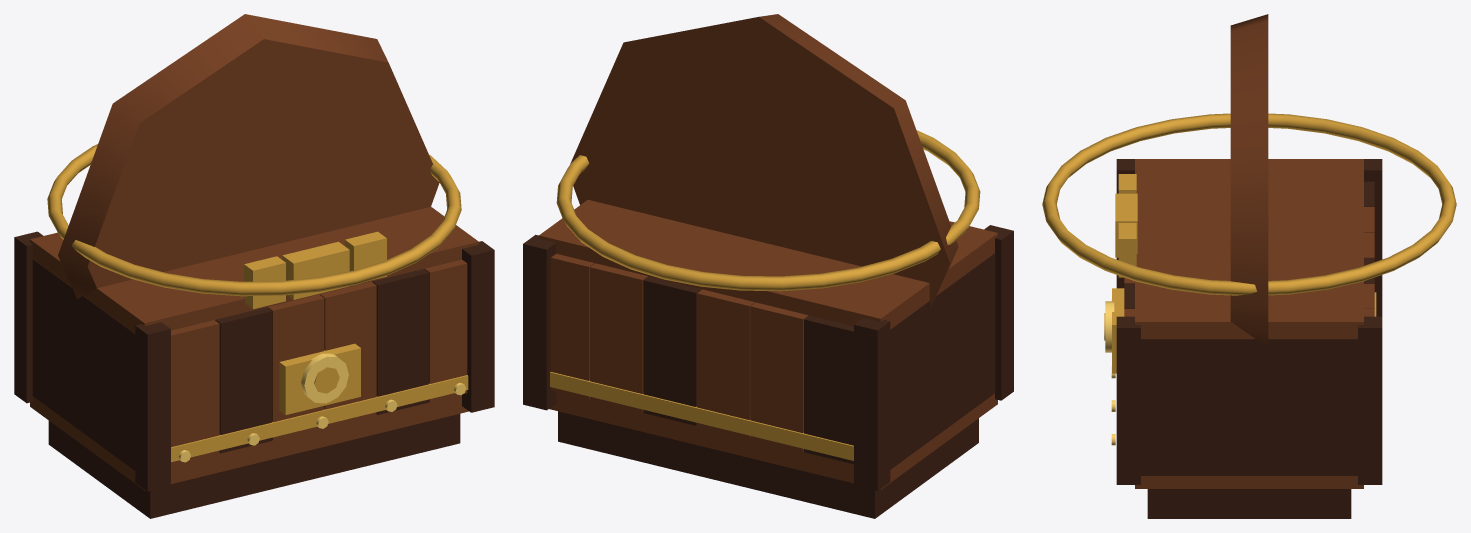
Rendered from chest.glb.
3 views of the same model, side by side, from view 1: azimuth 30°, elevation 25°; view 2: azimuth 150°, elevation 25°; view 3: azimuth 270°, elevation 25° (orthographic). The views are drawn at different scales.
Visible parts, largest first — view 1: TreasureChest; view 2: TreasureChest; view 3: TreasureChest.
Boxes of the visible parts, x1,y1,x2,y2 form: TreasureChest: (14, 14, 494, 518); TreasureChest: (523, 14, 1013, 518); TreasureChest: (1042, 14, 1456, 518).
Size of the model in its own units: 3.86 by 4.17 by 3.71.
